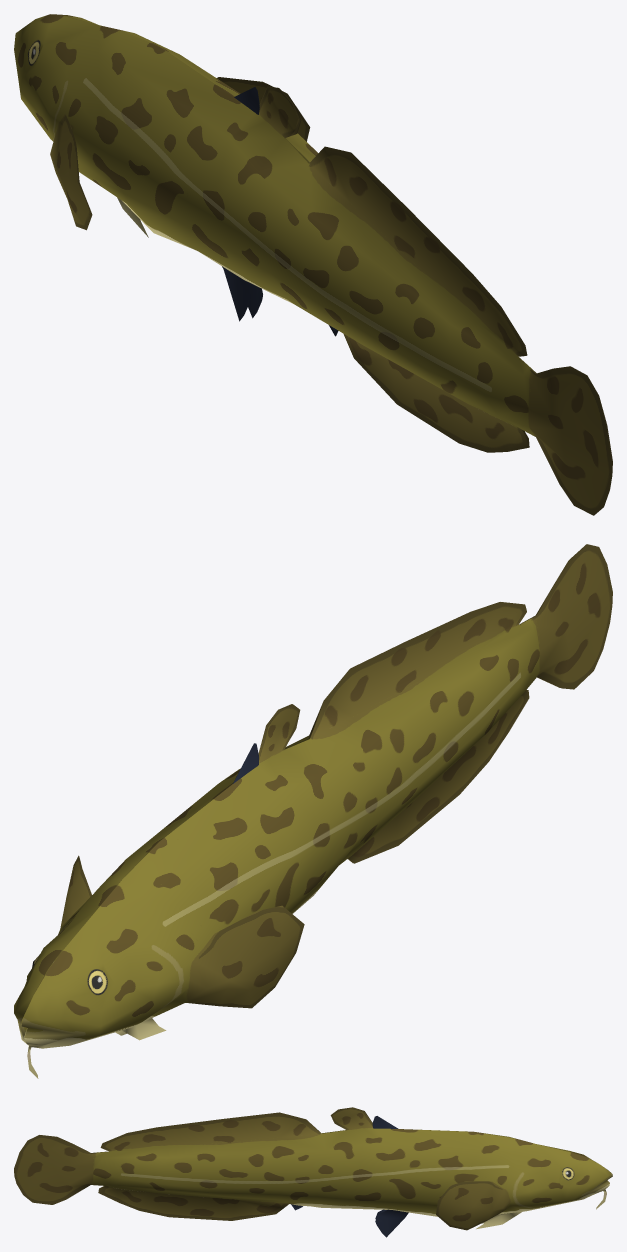
The model's file is cohoSalmon00.fbx.
3 renders of one model, top to bottom at view 1: azimuth 30°, elevation 25°; view 2: azimuth 150°, elevation 25°; view 3: azimuth 270°, elevation 25°, orthographic. The views are drawn at different scales.
Visible parts, largest first — view 1: Burbot_final, cohoSalmon_final; view 2: Burbot_final; view 3: Burbot_final, cohoSalmon_final.
Part boxes in pixels (left/top/right/bottom): Burbot_final: left=14, top=14, right=612, bottom=515; cohoSalmon_final: left=222, top=87, right=338, bottom=336; Burbot_final: left=14, top=544, right=612, bottom=1078; Burbot_final: left=14, top=1107, right=612, bottom=1230; cohoSalmon_final: left=291, top=1116, right=408, bottom=1237.
Size of the model in its own units: 0.4357 by 0.4661 by 1.97.
